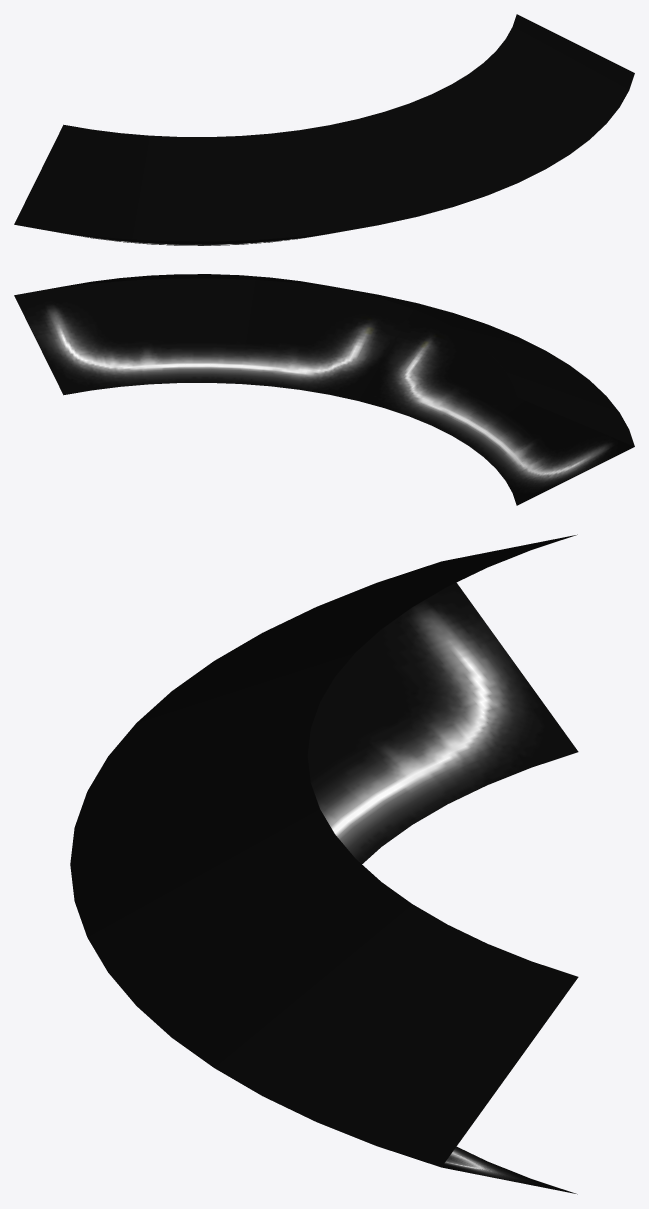
File: 0016_DM_FX_DiLongShou_qibian.glb
3 views of the same model, one above another, from view 1: azimuth 30°, elevation 25°; view 2: azimuth 150°, elevation 25°; view 3: azimuth 270°, elevation 25° (orthographic). The views are drawn at different scales.
Size of the model in its own units: 2.2 by 0.3683 by 0.78.
Materials: 1 (1 with a texture image).
